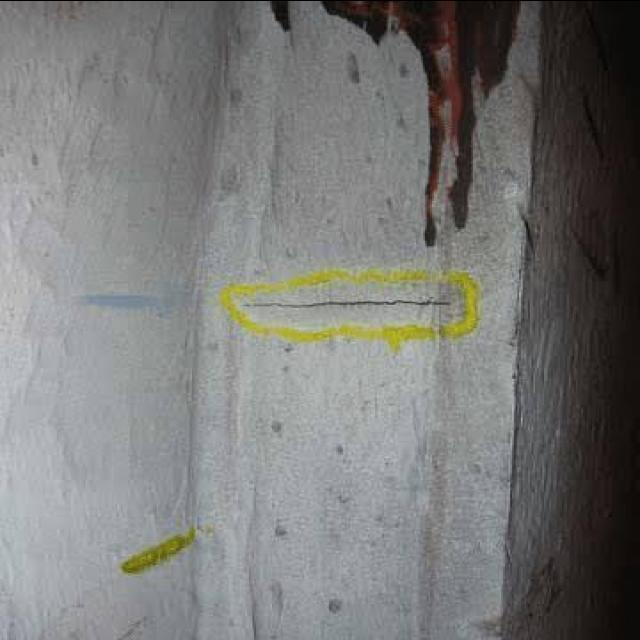Crack: (231, 293, 454, 311)
